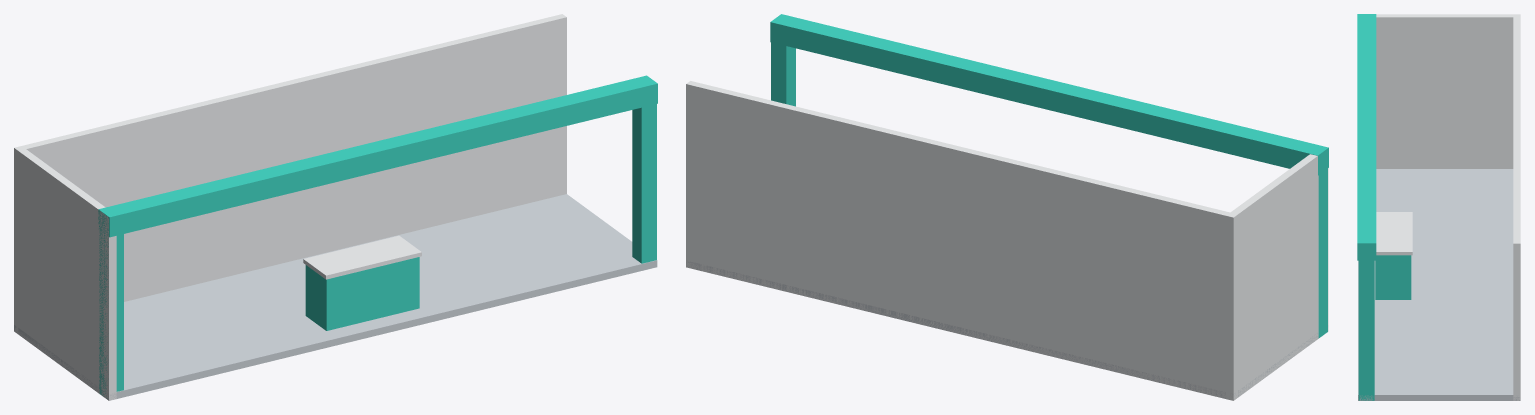
3 renders of one model, left to right at view 1: azimuth 30°, elevation 25°; view 2: azimuth 150°, elevation 25°; view 3: azimuth 270°, elevation 25°, orthographic. The views are drawn at different scales.
Visible parts, largest first — view 1: Exhibition Booth Concept; view 2: Exhibition Booth Concept; view 3: Exhibition Booth Concept.
Part boxes in pixels (x1,y1,x2,y2): Exhibition Booth Concept: (14, 14, 657, 400); Exhibition Booth Concept: (686, 14, 1328, 400); Exhibition Booth Concept: (1357, 14, 1520, 400).
Bounding box in the file's own units: 10 × 3.2 × 3.01.
